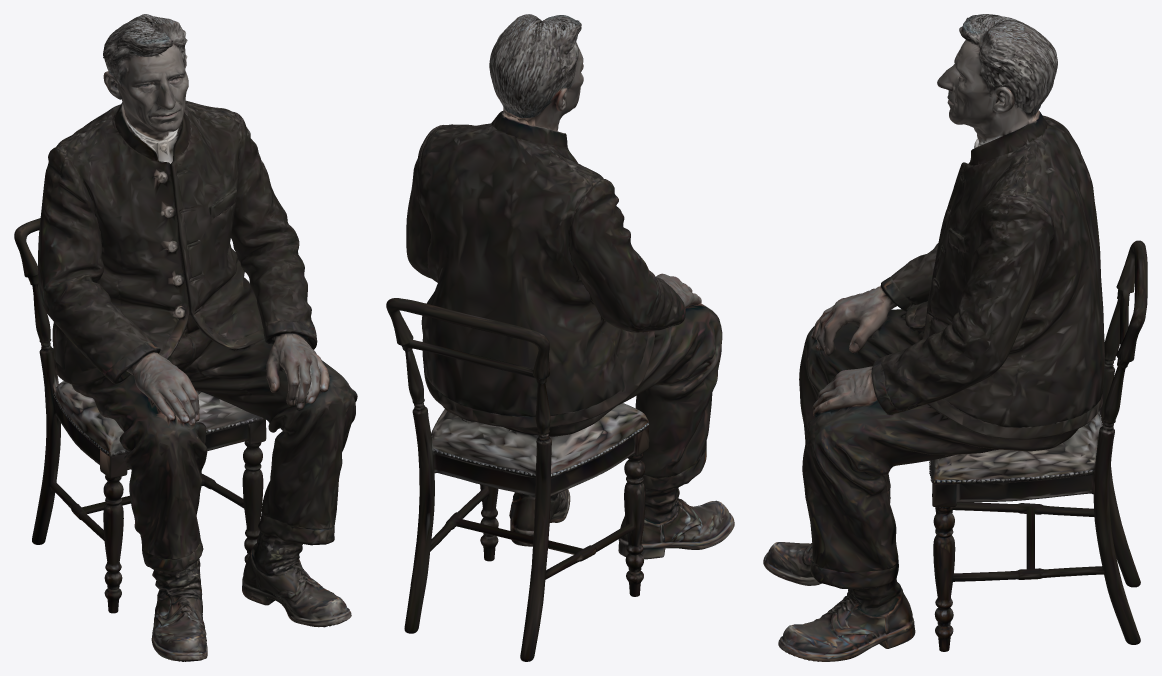
The picture shows the model from 3 angles, left to right: view 1: azimuth 30°, elevation 25°; view 2: azimuth 150°, elevation 25°; view 3: azimuth 270°, elevation 25°; orthographic projection. The views are drawn at different scales.
Size of the model in its own units: 0.4442 by 0.9776 by 0.577.
